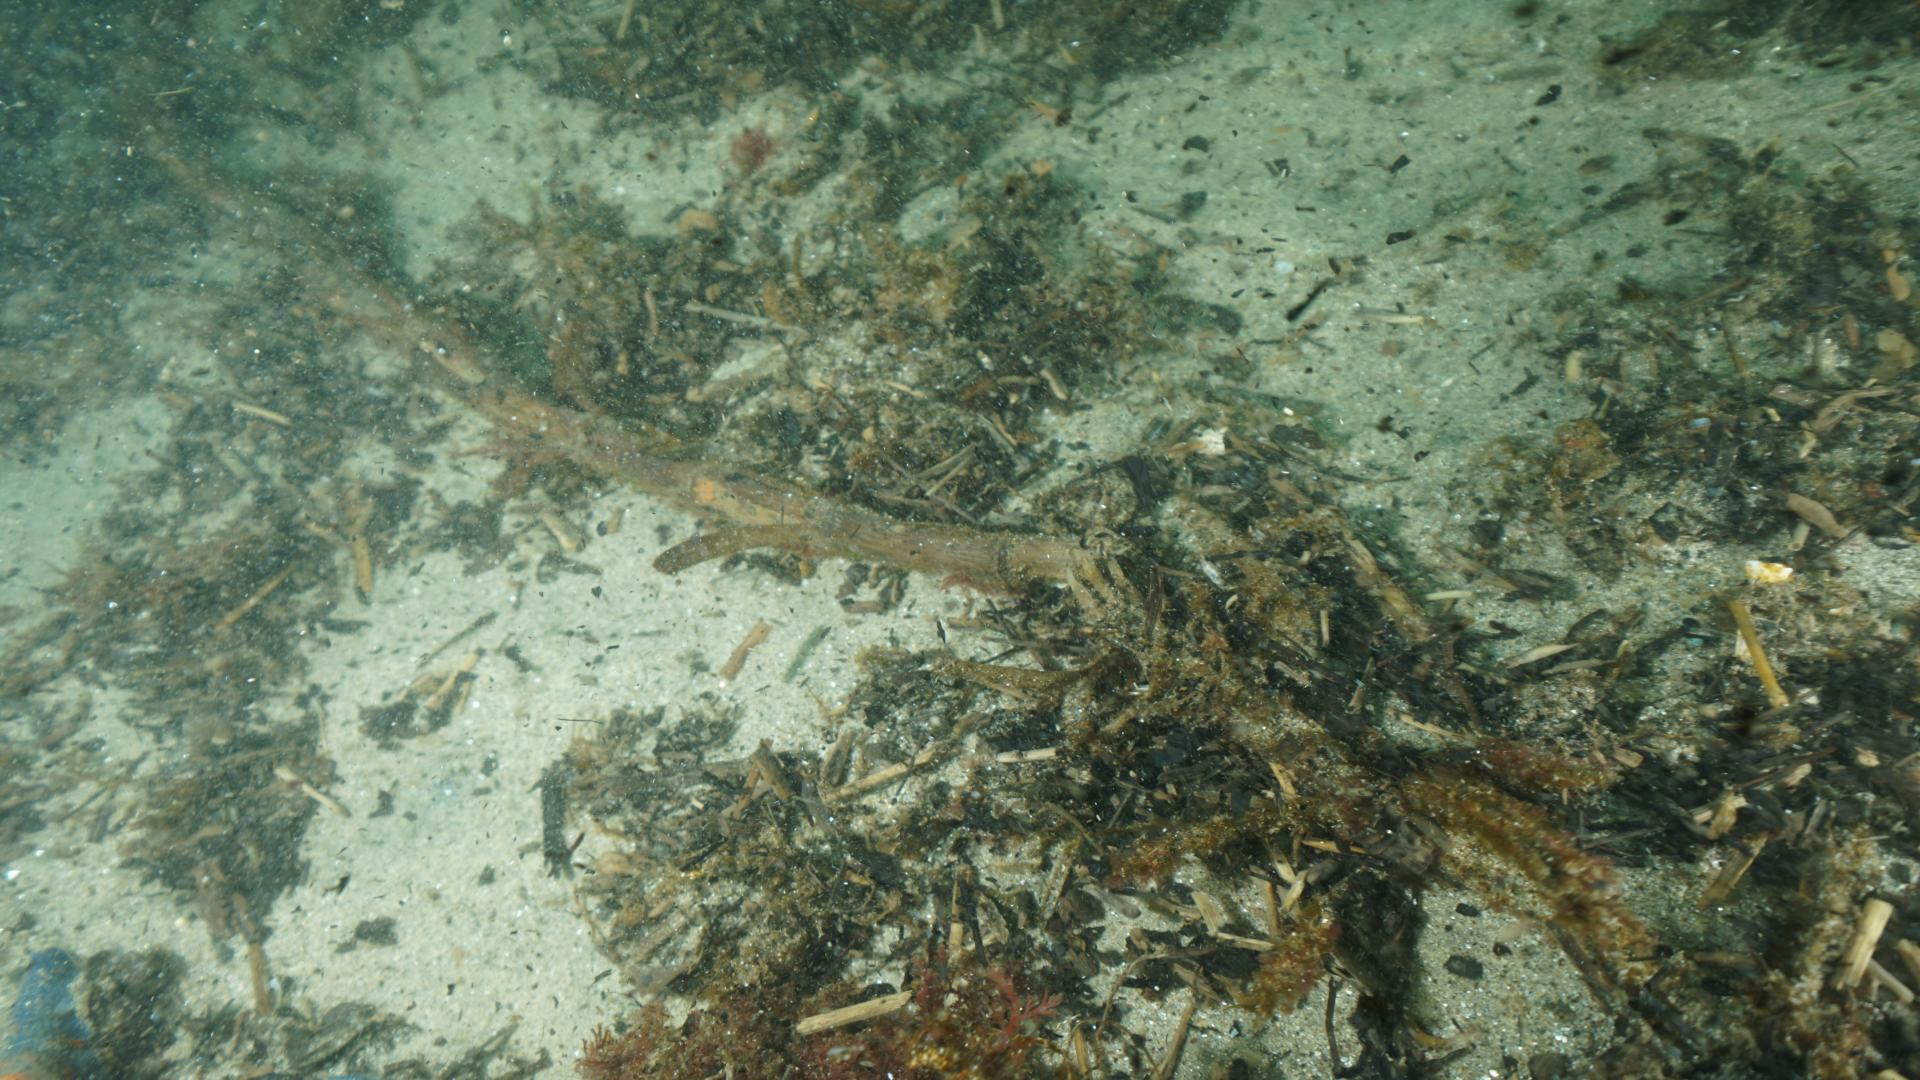wood: (150, 129, 1108, 592)
